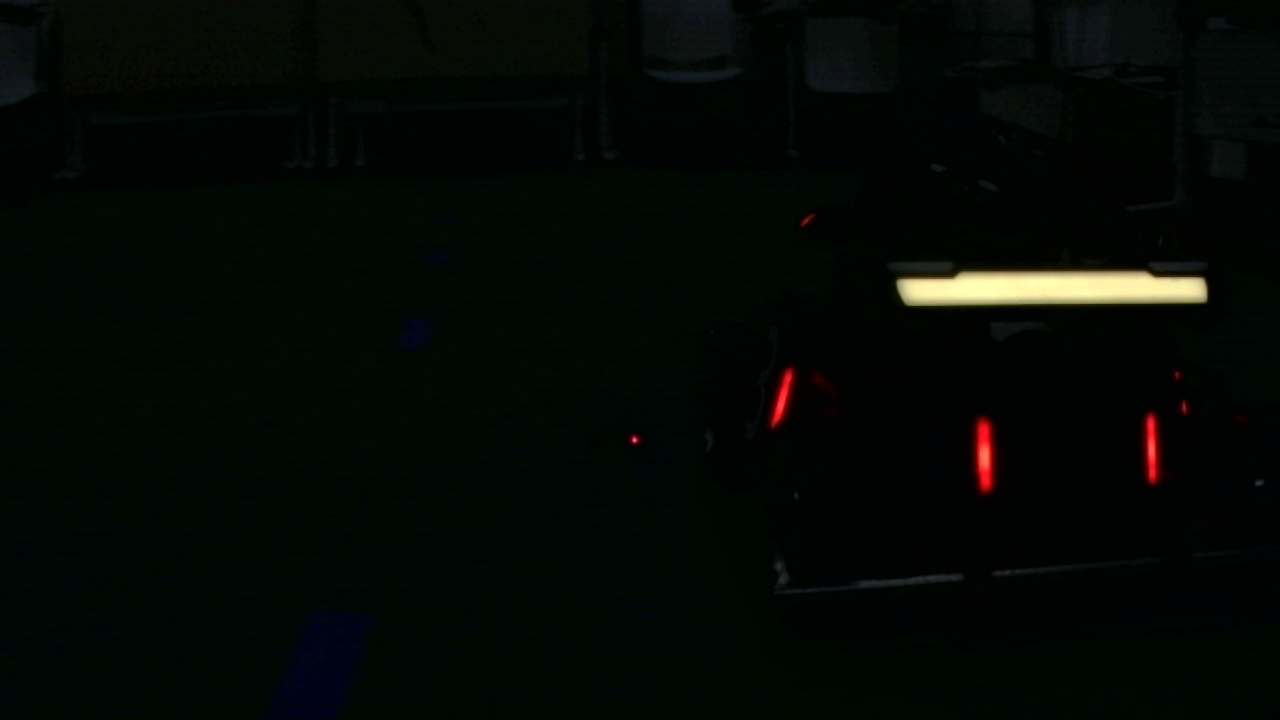lamp: (972, 415, 998, 493), (764, 366, 795, 431), (1144, 412, 1157, 489)
notpair1: (768, 367, 997, 493)
pair1: (972, 417, 1160, 494)
